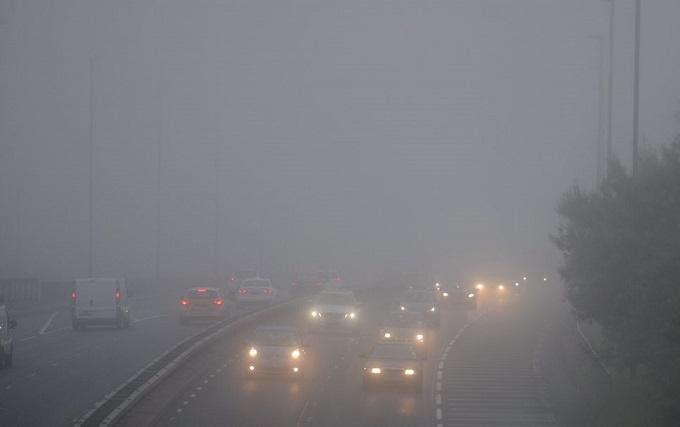airplane: (246, 341, 311, 379)
bicycle: (0, 303, 17, 365)
boat: (249, 276, 371, 387), (307, 276, 363, 326), (244, 341, 305, 379)
bus: (174, 281, 377, 407), (272, 290, 408, 409), (245, 281, 365, 387), (305, 284, 376, 384), (232, 316, 331, 381), (265, 319, 364, 383), (68, 276, 132, 329), (307, 276, 372, 324), (244, 341, 306, 378)
car: (20, 281, 391, 423), (232, 276, 522, 420), (174, 281, 377, 407), (79, 274, 321, 364), (304, 268, 444, 396), (272, 290, 408, 409), (223, 319, 371, 417), (139, 349, 315, 425), (278, 337, 430, 421), (244, 283, 364, 387), (329, 321, 428, 408), (307, 276, 376, 371), (233, 310, 319, 385), (271, 342, 365, 408), (280, 272, 376, 335), (285, 289, 350, 381), (252, 333, 350, 386), (365, 347, 427, 426), (316, 329, 373, 414), (324, 281, 392, 351), (102, 278, 204, 324), (299, 319, 366, 385), (336, 329, 412, 385), (297, 300, 365, 354), (358, 337, 423, 392), (360, 313, 436, 360), (68, 276, 132, 329), (307, 279, 364, 331), (357, 326, 422, 369), (0, 300, 39, 370), (190, 278, 259, 316), (318, 315, 369, 366), (291, 341, 356, 381), (244, 341, 306, 378), (365, 304, 432, 338), (296, 277, 356, 314), (214, 276, 274, 309), (324, 336, 371, 378), (276, 276, 344, 305), (177, 285, 227, 323), (323, 274, 360, 317), (374, 326, 427, 354), (314, 293, 363, 323), (354, 333, 403, 359), (0, 302, 18, 368), (224, 272, 265, 299), (313, 273, 354, 300), (296, 273, 344, 296), (347, 336, 375, 374), (237, 345, 270, 377), (379, 307, 429, 328), (370, 337, 420, 358), (195, 275, 238, 299), (183, 284, 226, 307), (284, 275, 327, 298), (250, 275, 293, 298), (389, 302, 436, 323), (237, 277, 275, 302), (221, 276, 252, 306), (378, 323, 426, 342), (231, 269, 272, 291), (207, 282, 242, 306), (34, 307, 63, 333), (384, 330, 427, 346), (317, 309, 354, 327), (219, 270, 242, 296), (311, 272, 344, 290), (242, 343, 258, 375), (376, 325, 411, 339), (226, 273, 249, 294), (290, 277, 321, 292), (237, 277, 267, 292), (256, 281, 279, 300), (244, 283, 273, 298), (229, 269, 260, 283), (211, 284, 237, 300), (186, 284, 220, 295), (199, 286, 226, 299), (225, 277, 240, 299), (254, 277, 274, 293), (232, 267, 260, 278), (221, 285, 237, 304), (228, 284, 243, 303), (245, 343, 258, 364), (210, 288, 226, 305), (376, 327, 396, 340), (289, 278, 308, 290), (262, 280, 277, 295), (289, 280, 304, 295), (226, 272, 239, 289), (413, 332, 426, 347)
fire hydrant: (0, 302, 18, 369)
motorcycle: (0, 303, 18, 369)
parking meter: (0, 302, 18, 368), (243, 343, 257, 371)
person: (250, 283, 369, 392), (285, 289, 350, 381), (303, 278, 364, 361), (304, 308, 363, 390), (358, 337, 422, 403), (250, 340, 304, 407), (0, 307, 19, 369), (112, 287, 124, 327), (289, 347, 302, 374), (112, 285, 122, 310), (68, 288, 77, 314)
sports ball: (177, 285, 227, 323)
tennis racket: (178, 284, 226, 323)
traffic light: (424, 303, 440, 325), (68, 287, 77, 310)
truck: (61, 275, 388, 420), (272, 290, 408, 409), (223, 319, 371, 417), (243, 284, 366, 388), (305, 284, 376, 384), (265, 319, 364, 383), (285, 289, 350, 381), (241, 326, 329, 377), (308, 328, 374, 392), (359, 333, 425, 391), (69, 276, 132, 331), (307, 276, 372, 324), (244, 341, 305, 379), (374, 326, 427, 354), (180, 286, 225, 314), (224, 272, 265, 299), (296, 273, 344, 296), (237, 277, 275, 302), (231, 269, 272, 291), (229, 269, 260, 283)
